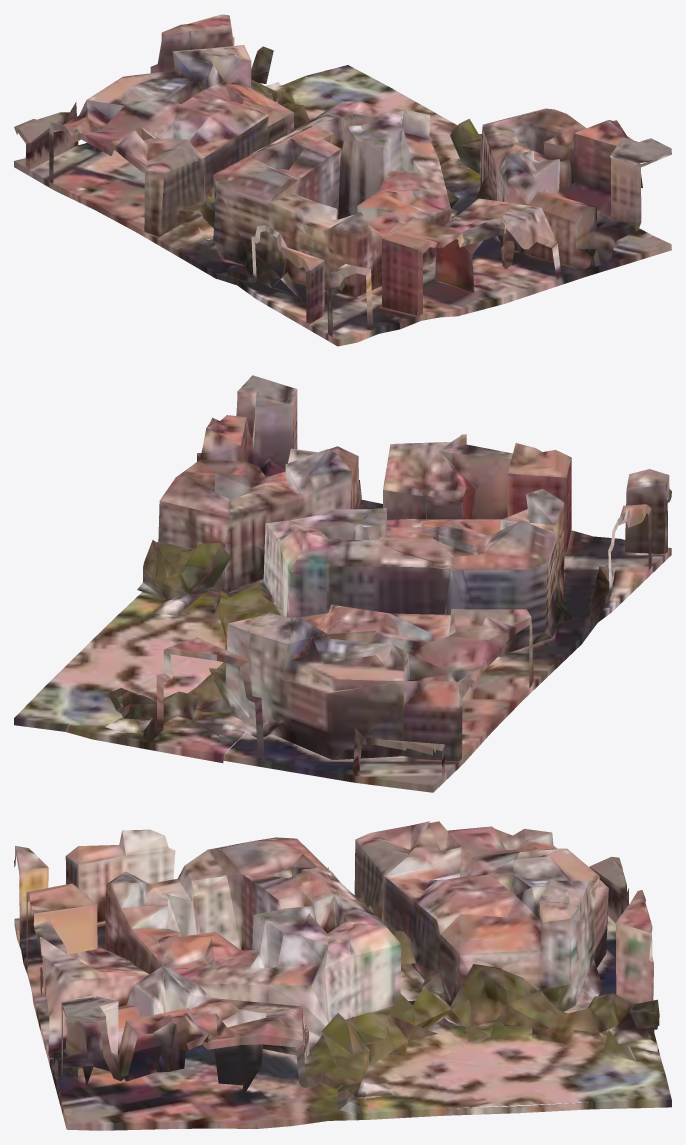
3 renders of one model, top to bottom at view 1: azimuth 30°, elevation 25°; view 2: azimuth 150°, elevation 25°; view 3: azimuth 270°, elevation 25°, orthographic. The views are drawn at different scales.
Visible parts, largest first — view 1: Mesh_0; view 2: Mesh_0; view 3: Mesh_0.
Part boxes in pixels (bbox=[...]): Mesh_0: bbox=[14, 14, 671, 346]; Mesh_0: bbox=[14, 375, 671, 792]; Mesh_0: bbox=[14, 821, 671, 1130].
Size of the model in its own units: 133 by 34 by 165.
1 material, 1 textured.
